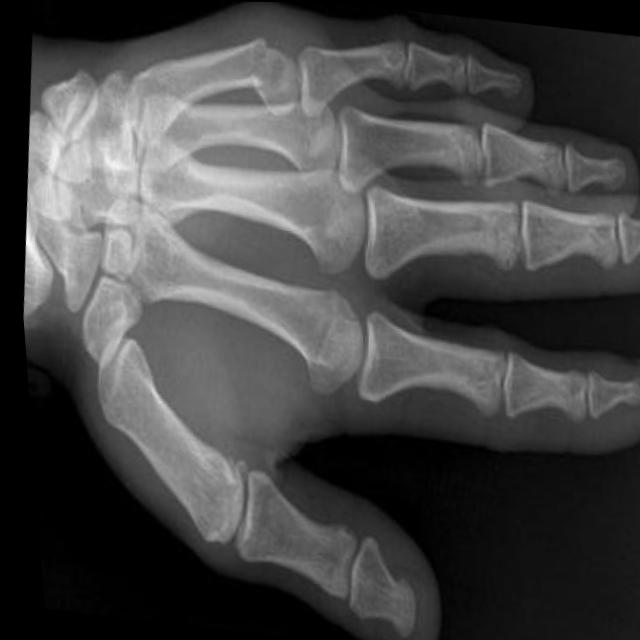fracture: (231, 17, 282, 99)
